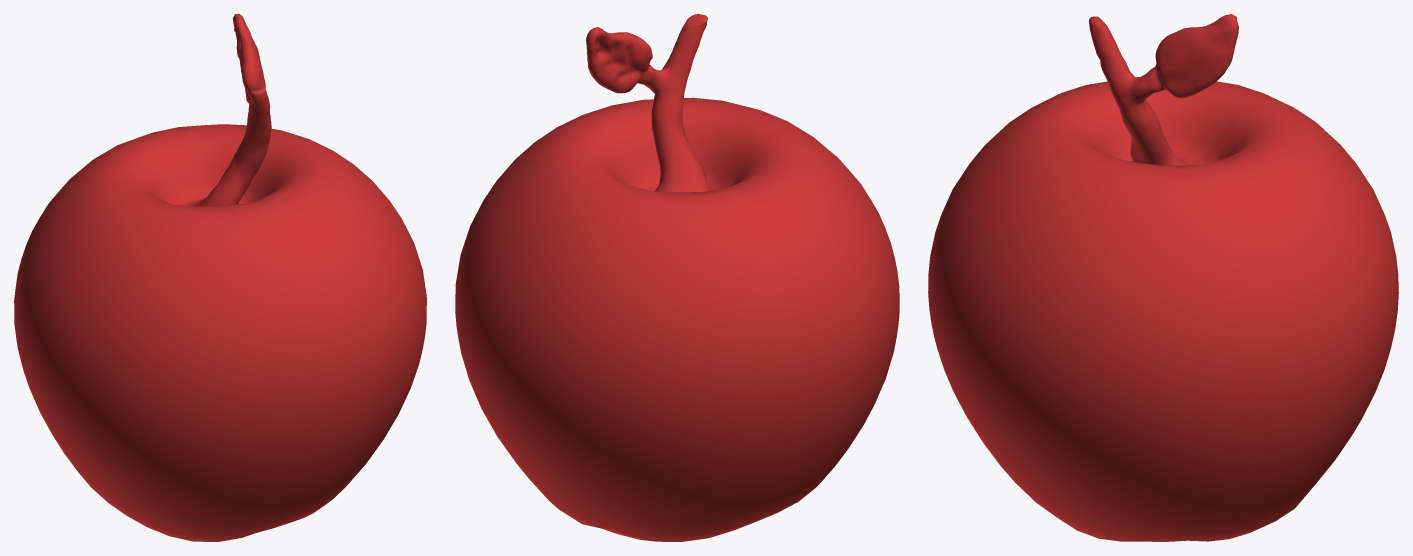
The model's file is Manzana.obj.
3 views of the same model, side by side, from view 1: azimuth 30°, elevation 25°; view 2: azimuth 150°, elevation 25°; view 3: azimuth 270°, elevation 25° (orthographic). The views are drawn at different scales.
Size of the model in its own units: 0.9287 by 1.13 by 0.9262.
